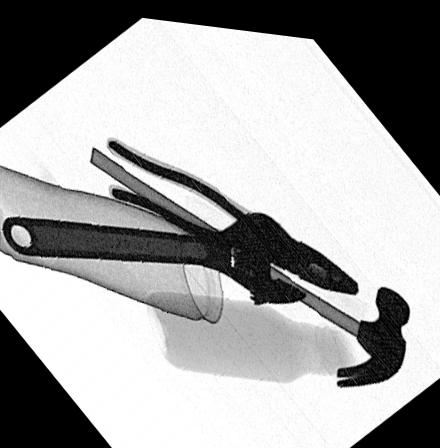Hammer: (84, 146, 410, 381)
Pliers: (101, 136, 362, 286)
Wrench: (1, 202, 316, 297)
